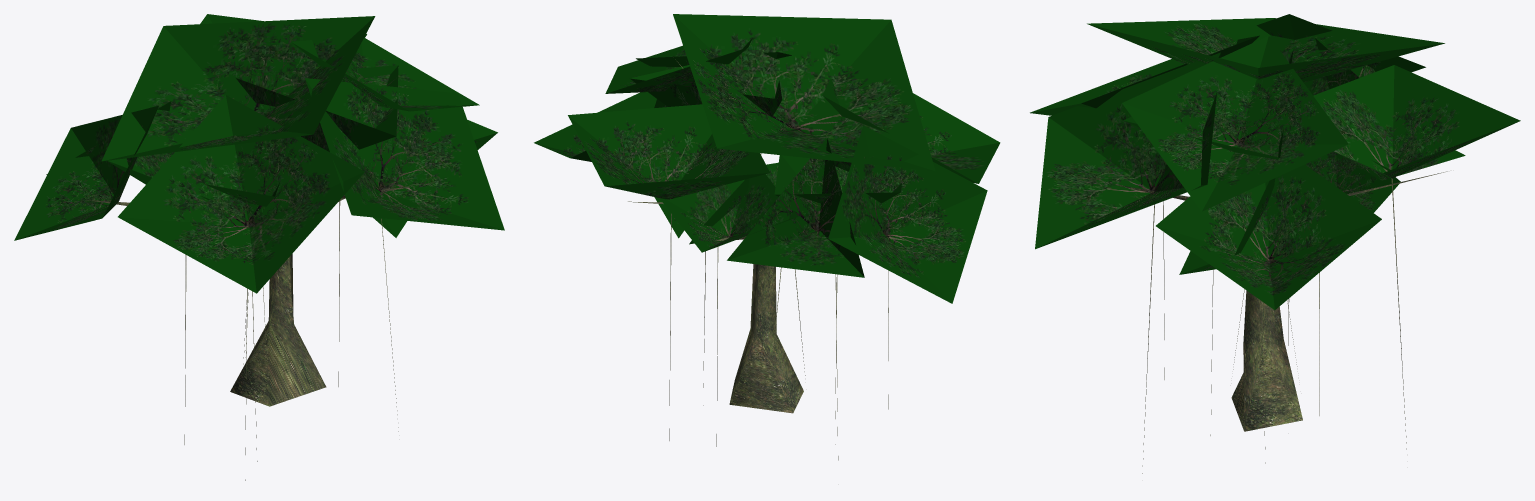
Rendered from decd_treecanopy_a2_l3.fbx.
3 views of the same model, side by side, from view 1: azimuth 30°, elevation 25°; view 2: azimuth 150°, elevation 25°; view 3: azimuth 270°, elevation 25° (orthographic). The views are drawn at different scales.
Visible parts, largest first — view 1: mesh_node; view 2: mesh_node; view 3: mesh_node.
Part boxes in pixels (x1,y1,x2,y2): mesh_node: (14,14,504,480); mesh_node: (534,14,1000,460); mesh_node: (1030,14,1520,473).
Bounding box in the file's own units: 36.62 × 32.3 × 31.14.
